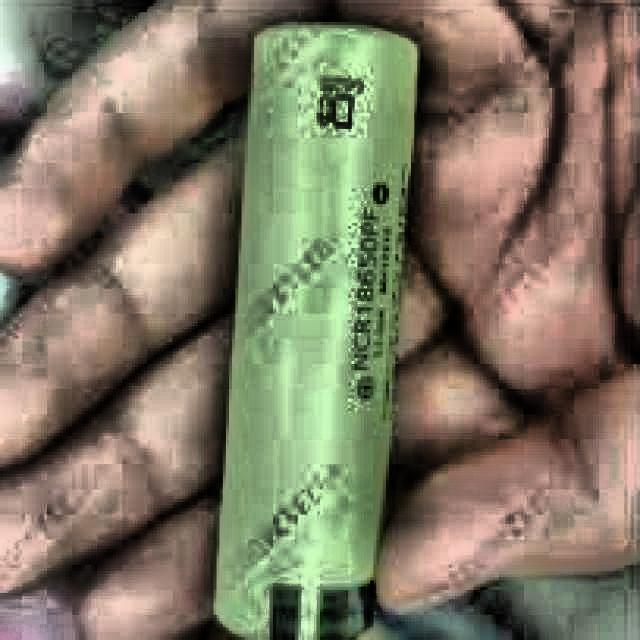battery: (216, 25, 417, 640)
